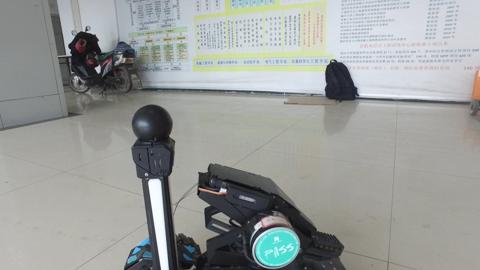bag: (316, 53, 365, 105)
chariot: (105, 101, 338, 270)
